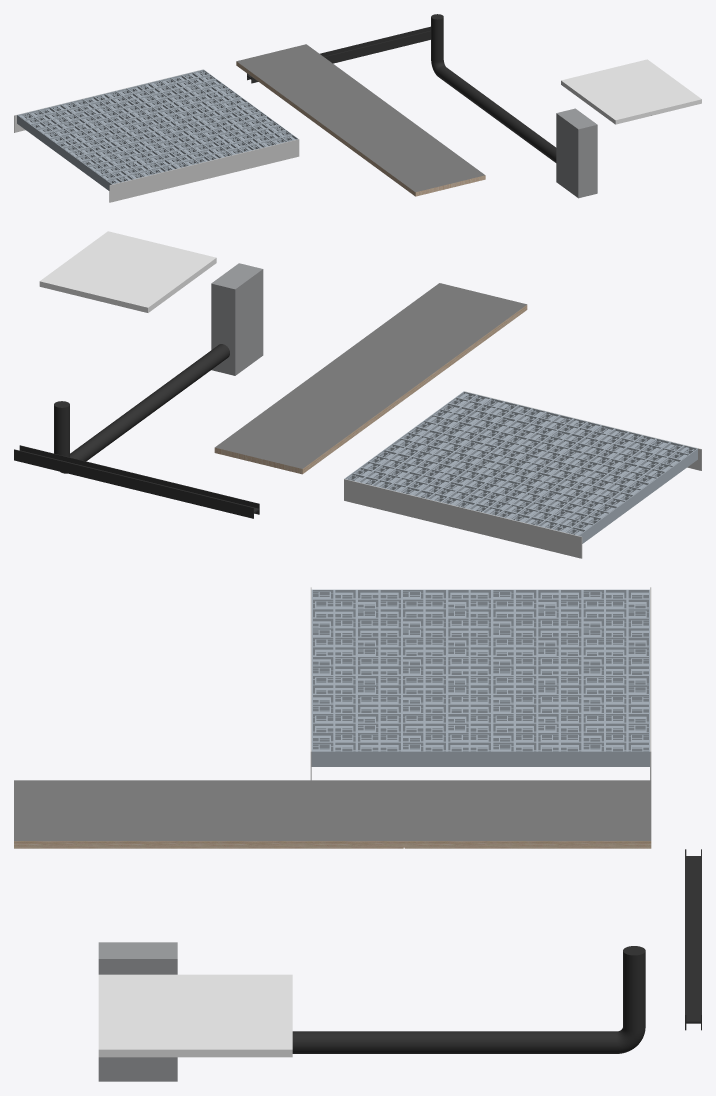
File: facade.glb
The picture shows the model from 3 angles, top to bottom: view 1: azimuth 30°, elevation 25°; view 2: azimuth 150°, elevation 25°; view 3: azimuth 270°, elevation 25°; orthographic projection. The views are drawn at different scales.
Parts seen in each view (by area): view 1: Groups-017, Groups-019, Component#15, Groups-020, Group 1036, Groups-021; view 2: Groups-017, Groups-019, Component#15, Groups-020, Groups-021, Group 1036; view 3: Groups-017, Groups-019, Group 1036, Groups-020, Groups-021.
Part boxes in pixels (left/top/right/bottom): Groups-017: left=236, top=44, right=485, bottom=196; Groups-019: left=561, top=59, right=701, bottom=124; Component#15: left=109, top=139, right=299, bottom=202; Groups-020: left=556, top=108, right=597, bottom=198; Group 1036: left=431, top=14, right=556, bottom=162; Groups-021: left=247, top=26, right=430, bottom=83; Groups-017: left=214, top=283, right=527, bottom=474; Groups-019: left=39, top=231, right=216, bottom=312; Component#15: left=344, top=479, right=582, bottom=558; Groups-020: left=211, top=263, right=263, bottom=375; Groups-021: left=14, top=445, right=259, bottom=518; Group 1036: left=54, top=344, right=229, bottom=473; Groups-017: left=14, top=780, right=651, bottom=848; Groups-019: left=98, top=974, right=292, bottom=1057; Group 1036: left=292, top=946, right=645, bottom=1053; Groups-020: left=98, top=942, right=177, bottom=1081; Groups-021: left=685, top=849, right=701, bottom=1030.
Bounding box in the file's own units: 9.7 × 1.2 × 6.1.
7 materials, 2 textured.
